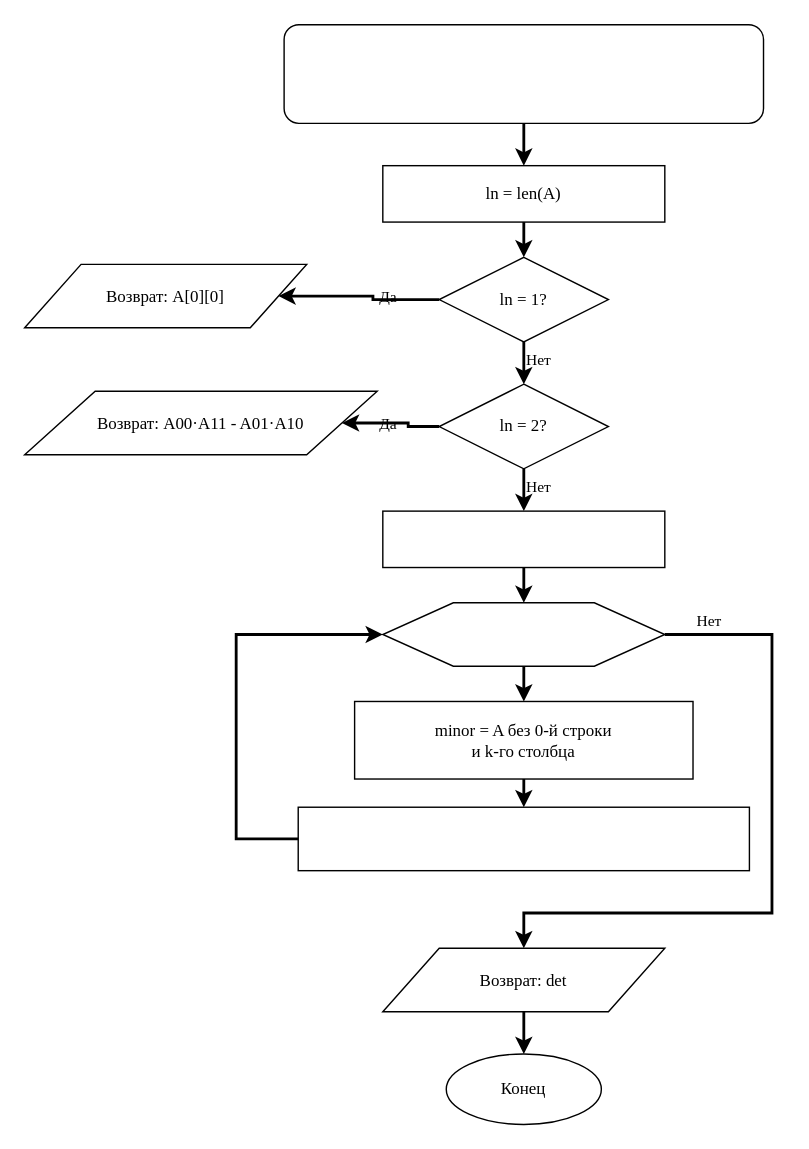
Image size: 809x1149. Some labels were removed from this diagram. Here are the shapes that lost their labels. From the top down, the box of each, then its label:
(283, 23, 764, 123): Подпрограмма determinant(A) (разложение Лапласса)
(381, 510, 665, 568): det = 0
(381, 601, 665, 666): k:=0, ln-1, 1
(297, 806, 749, 871): det += A[0][k] · (-1)^k · determinant(minor)
